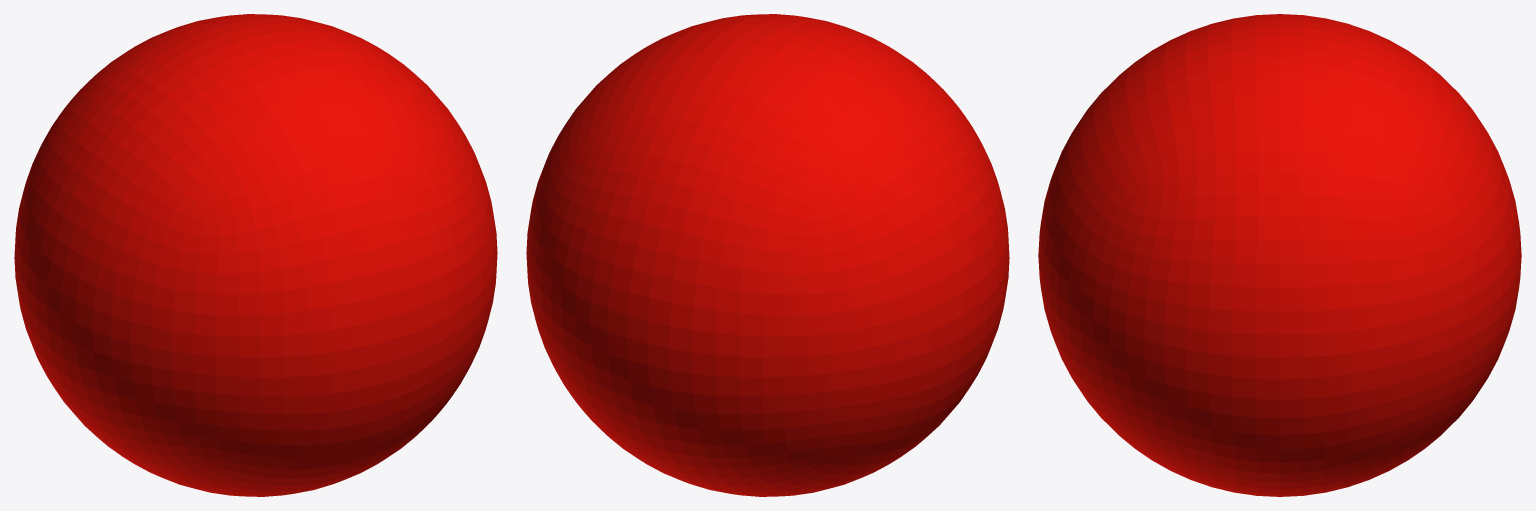
Rendered from Matrix.gltf.
3 views of the same model, side by side, from view 1: azimuth 30°, elevation 25°; view 2: azimuth 150°, elevation 25°; view 3: azimuth 270°, elevation 25° (orthographic).
Visible parts, largest first — view 1: LimitMatrix; view 2: LimitMatrix; view 3: LimitMatrix.
Boxes of the visible parts, x1,y1,x2,y2 form: LimitMatrix: (14,14,497,496); LimitMatrix: (526,14,1009,496); LimitMatrix: (1038,14,1521,496).
Bounding box in the file's own units: 8132888 × 8132888 × 8132888.
